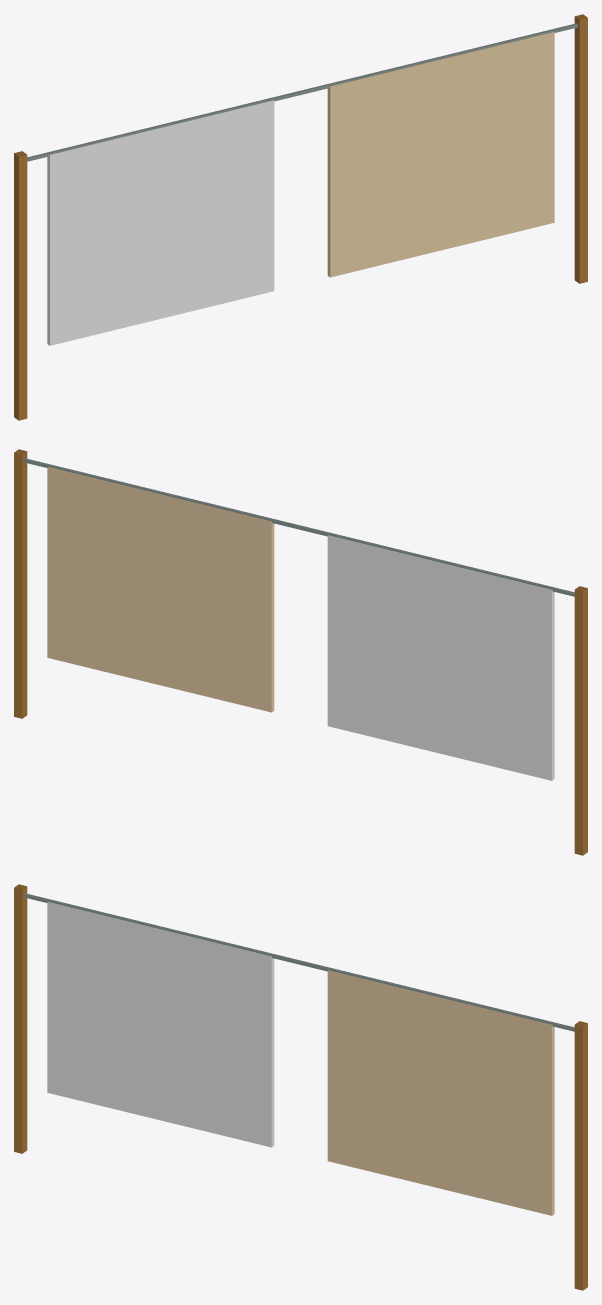
The model's file is SM_Tendedero_v2_Sabanas_LOD0.fbx.
3 views of the same model, one above another, from view 1: azimuth 30°, elevation 25°; view 2: azimuth 150°, elevation 25°; view 3: azimuth 330°, elevation 25° (orthographic).
Parts seen in each view (by area): view 1: SM_vida_fuerte_v7_LOD0; view 2: SM_vida_fuerte_v7_LOD0; view 3: SM_vida_fuerte_v7_LOD0.
Boxes of the visible parts, x1,y1,x2,y2 form: SM_vida_fuerte_v7_LOD0: (14, 14, 587, 420); SM_vida_fuerte_v7_LOD0: (14, 449, 587, 855); SM_vida_fuerte_v7_LOD0: (14, 884, 587, 1290).
Bounding box in the file's own units: 4.06 × 1.8 × 0.06.
